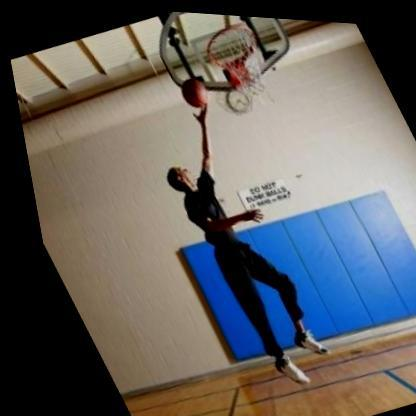basketball: (166, 65, 219, 115)
